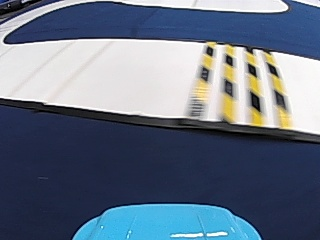bump: (180, 46, 292, 124)
